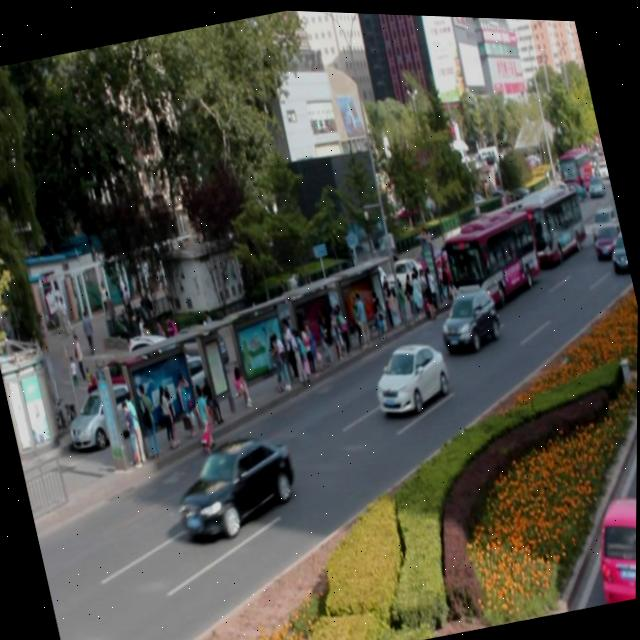car: (166, 422, 306, 543), (366, 330, 454, 417), (433, 280, 503, 352), (589, 214, 623, 255), (604, 224, 630, 267)
van: (429, 197, 542, 314), (503, 172, 588, 267)
